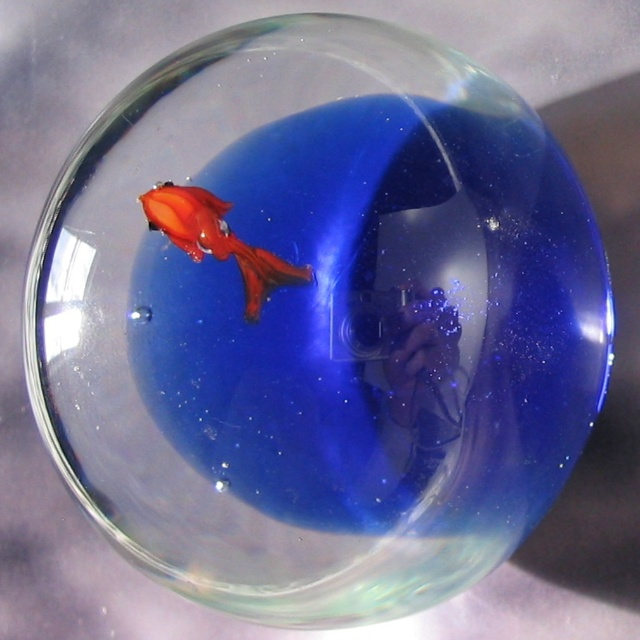Goldfish: (136, 181, 309, 325)
